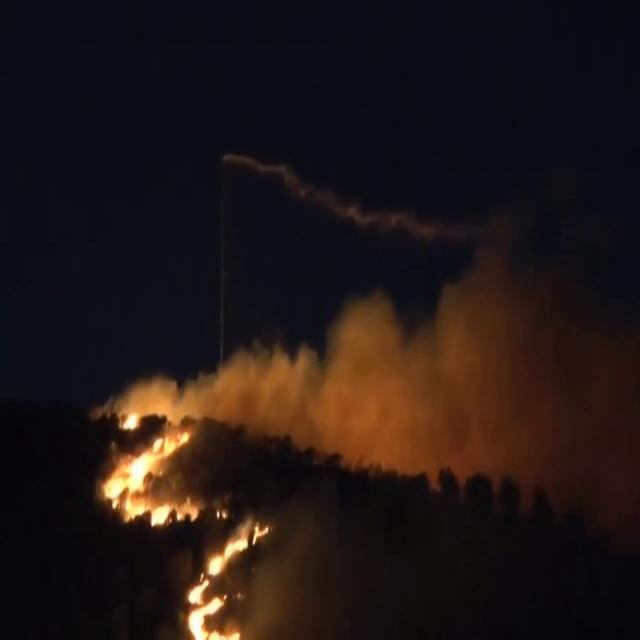Fire: (92, 407, 268, 640)
Smoke: (290, 269, 640, 535), (114, 333, 286, 411)
